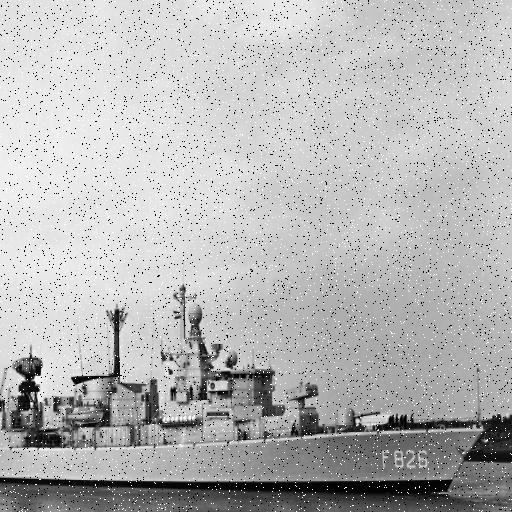Fragata: (1, 260, 487, 501)
